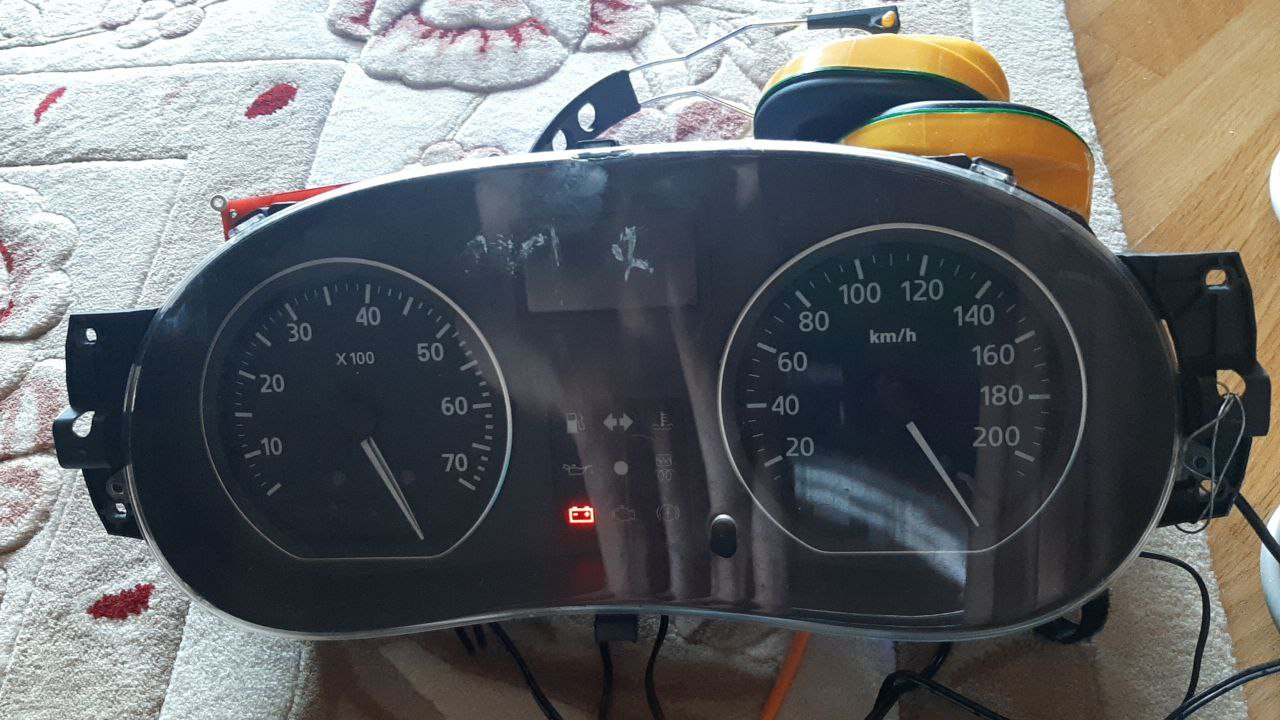accumulator: (563, 501, 598, 527)
